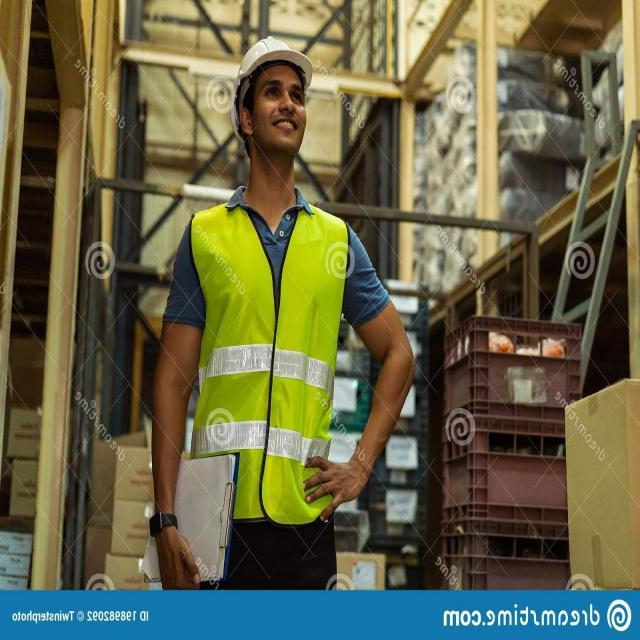Vest: (179, 202, 360, 523)
